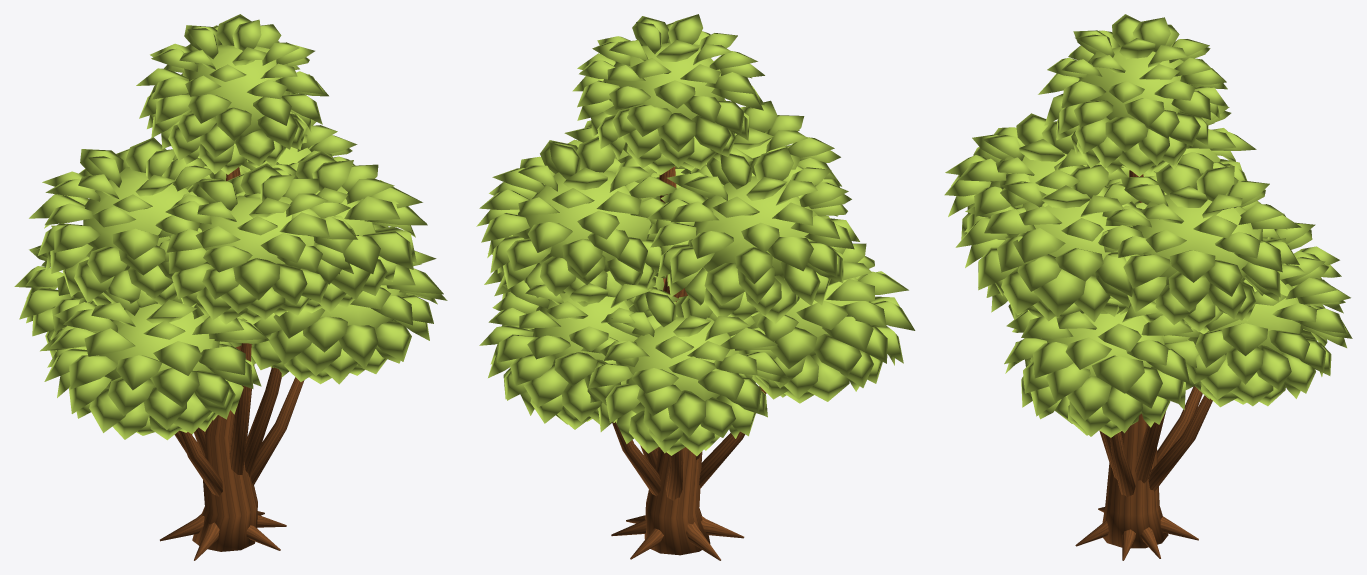
Rendered from YoungOak_LOD0.glb.
3 views of the same model, side by side, from view 1: azimuth 30°, elevation 25°; view 2: azimuth 150°, elevation 25°; view 3: azimuth 270°, elevation 25° (orthographic).
Visible parts, largest first — view 1: SM_YoungOak_Foliage_LOD0, SM_YoungOak_Bark_LOD0; view 2: SM_YoungOak_Foliage_LOD0, SM_YoungOak_Bark_LOD0; view 3: SM_YoungOak_Foliage_LOD0, SM_YoungOak_Bark_LOD0.
Boxes of the visible parts, <box> form: SM_YoungOak_Foliage_LOD0: <box>14,14,447,440</box>; SM_YoungOak_Bark_LOD0: <box>160,167,304,560</box>; SM_YoungOak_Foliage_LOD0: <box>476,14,915,456</box>; SM_YoungOak_Bark_LOD0: <box>611,166,766,560</box>; SM_YoungOak_Foliage_LOD0: <box>944,14,1352,437</box>; SM_YoungOak_Bark_LOD0: <box>1075,170,1212,560</box>.
Size of the model in its own units: 4.64 by 5.79 by 4.2.
Materials: 2 (1 with a texture image).
